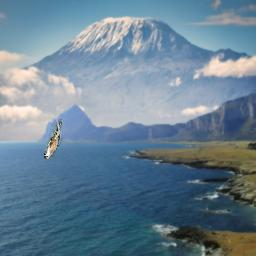Cuckoo: (44, 119, 62, 159)
